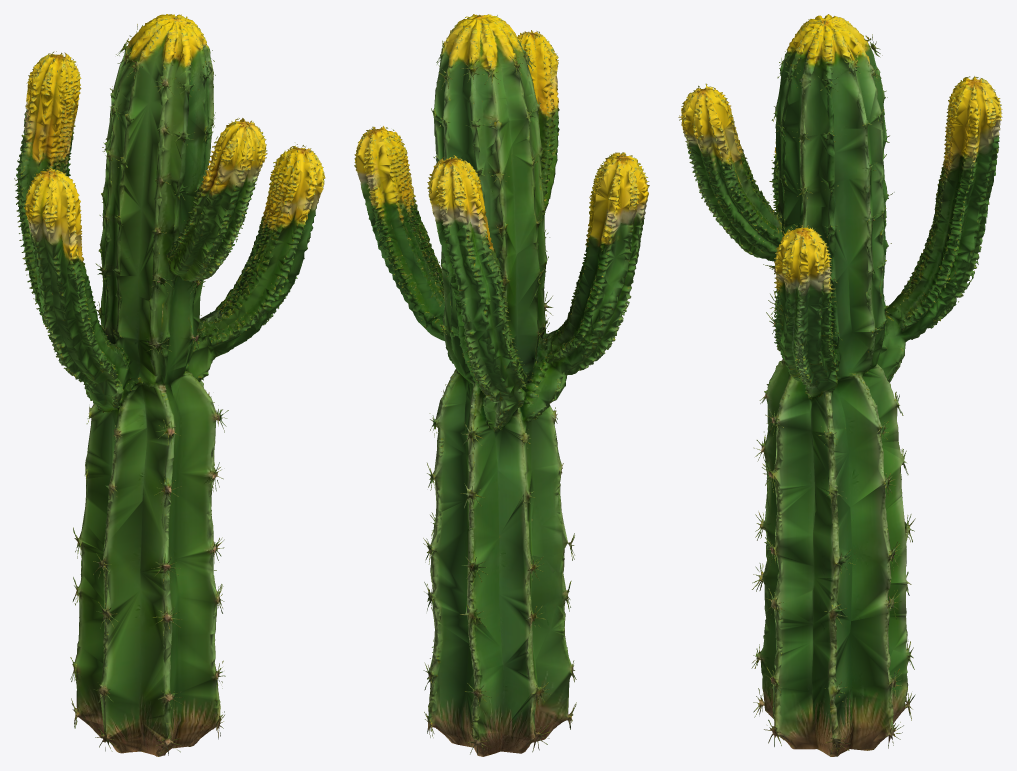
File: cactus_c.glb
The picture shows the model from 3 angles, left to right: view 1: azimuth 30°, elevation 25°; view 2: azimuth 150°, elevation 25°; view 3: azimuth 270°, elevation 25°; orthographic projection. The views are drawn at different scales.
Bounding box in the file's own units: 0.847 × 2 × 0.8087.
Materials: 1 (1 with a texture image).
